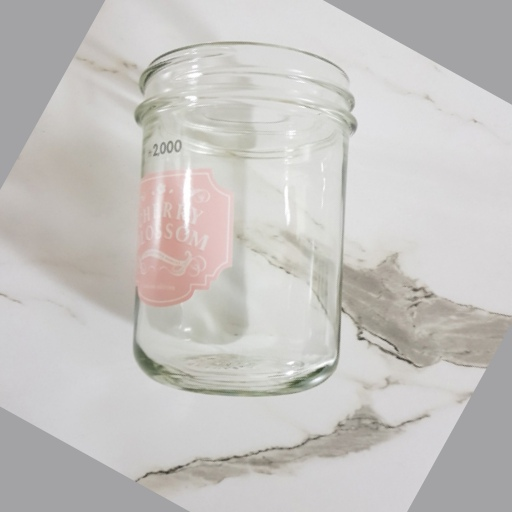Glass_5: (128, 41, 361, 392)
